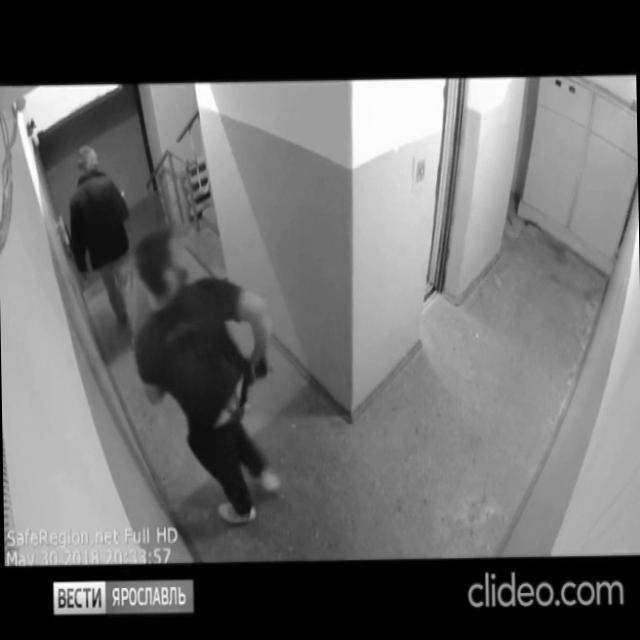gun: (236, 346, 275, 414)
person: (65, 140, 138, 337)
person with a gun: (128, 220, 280, 528)
